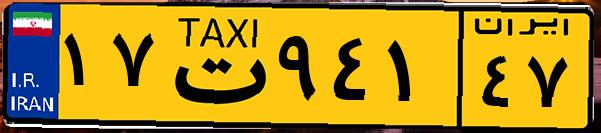1: (385, 28, 445, 110), (57, 26, 110, 100)
4: (330, 28, 385, 110), (475, 38, 525, 113)
7: (525, 38, 570, 115), (110, 28, 158, 98)
9: (270, 28, 330, 110)
ت: (158, 12, 270, 120)
